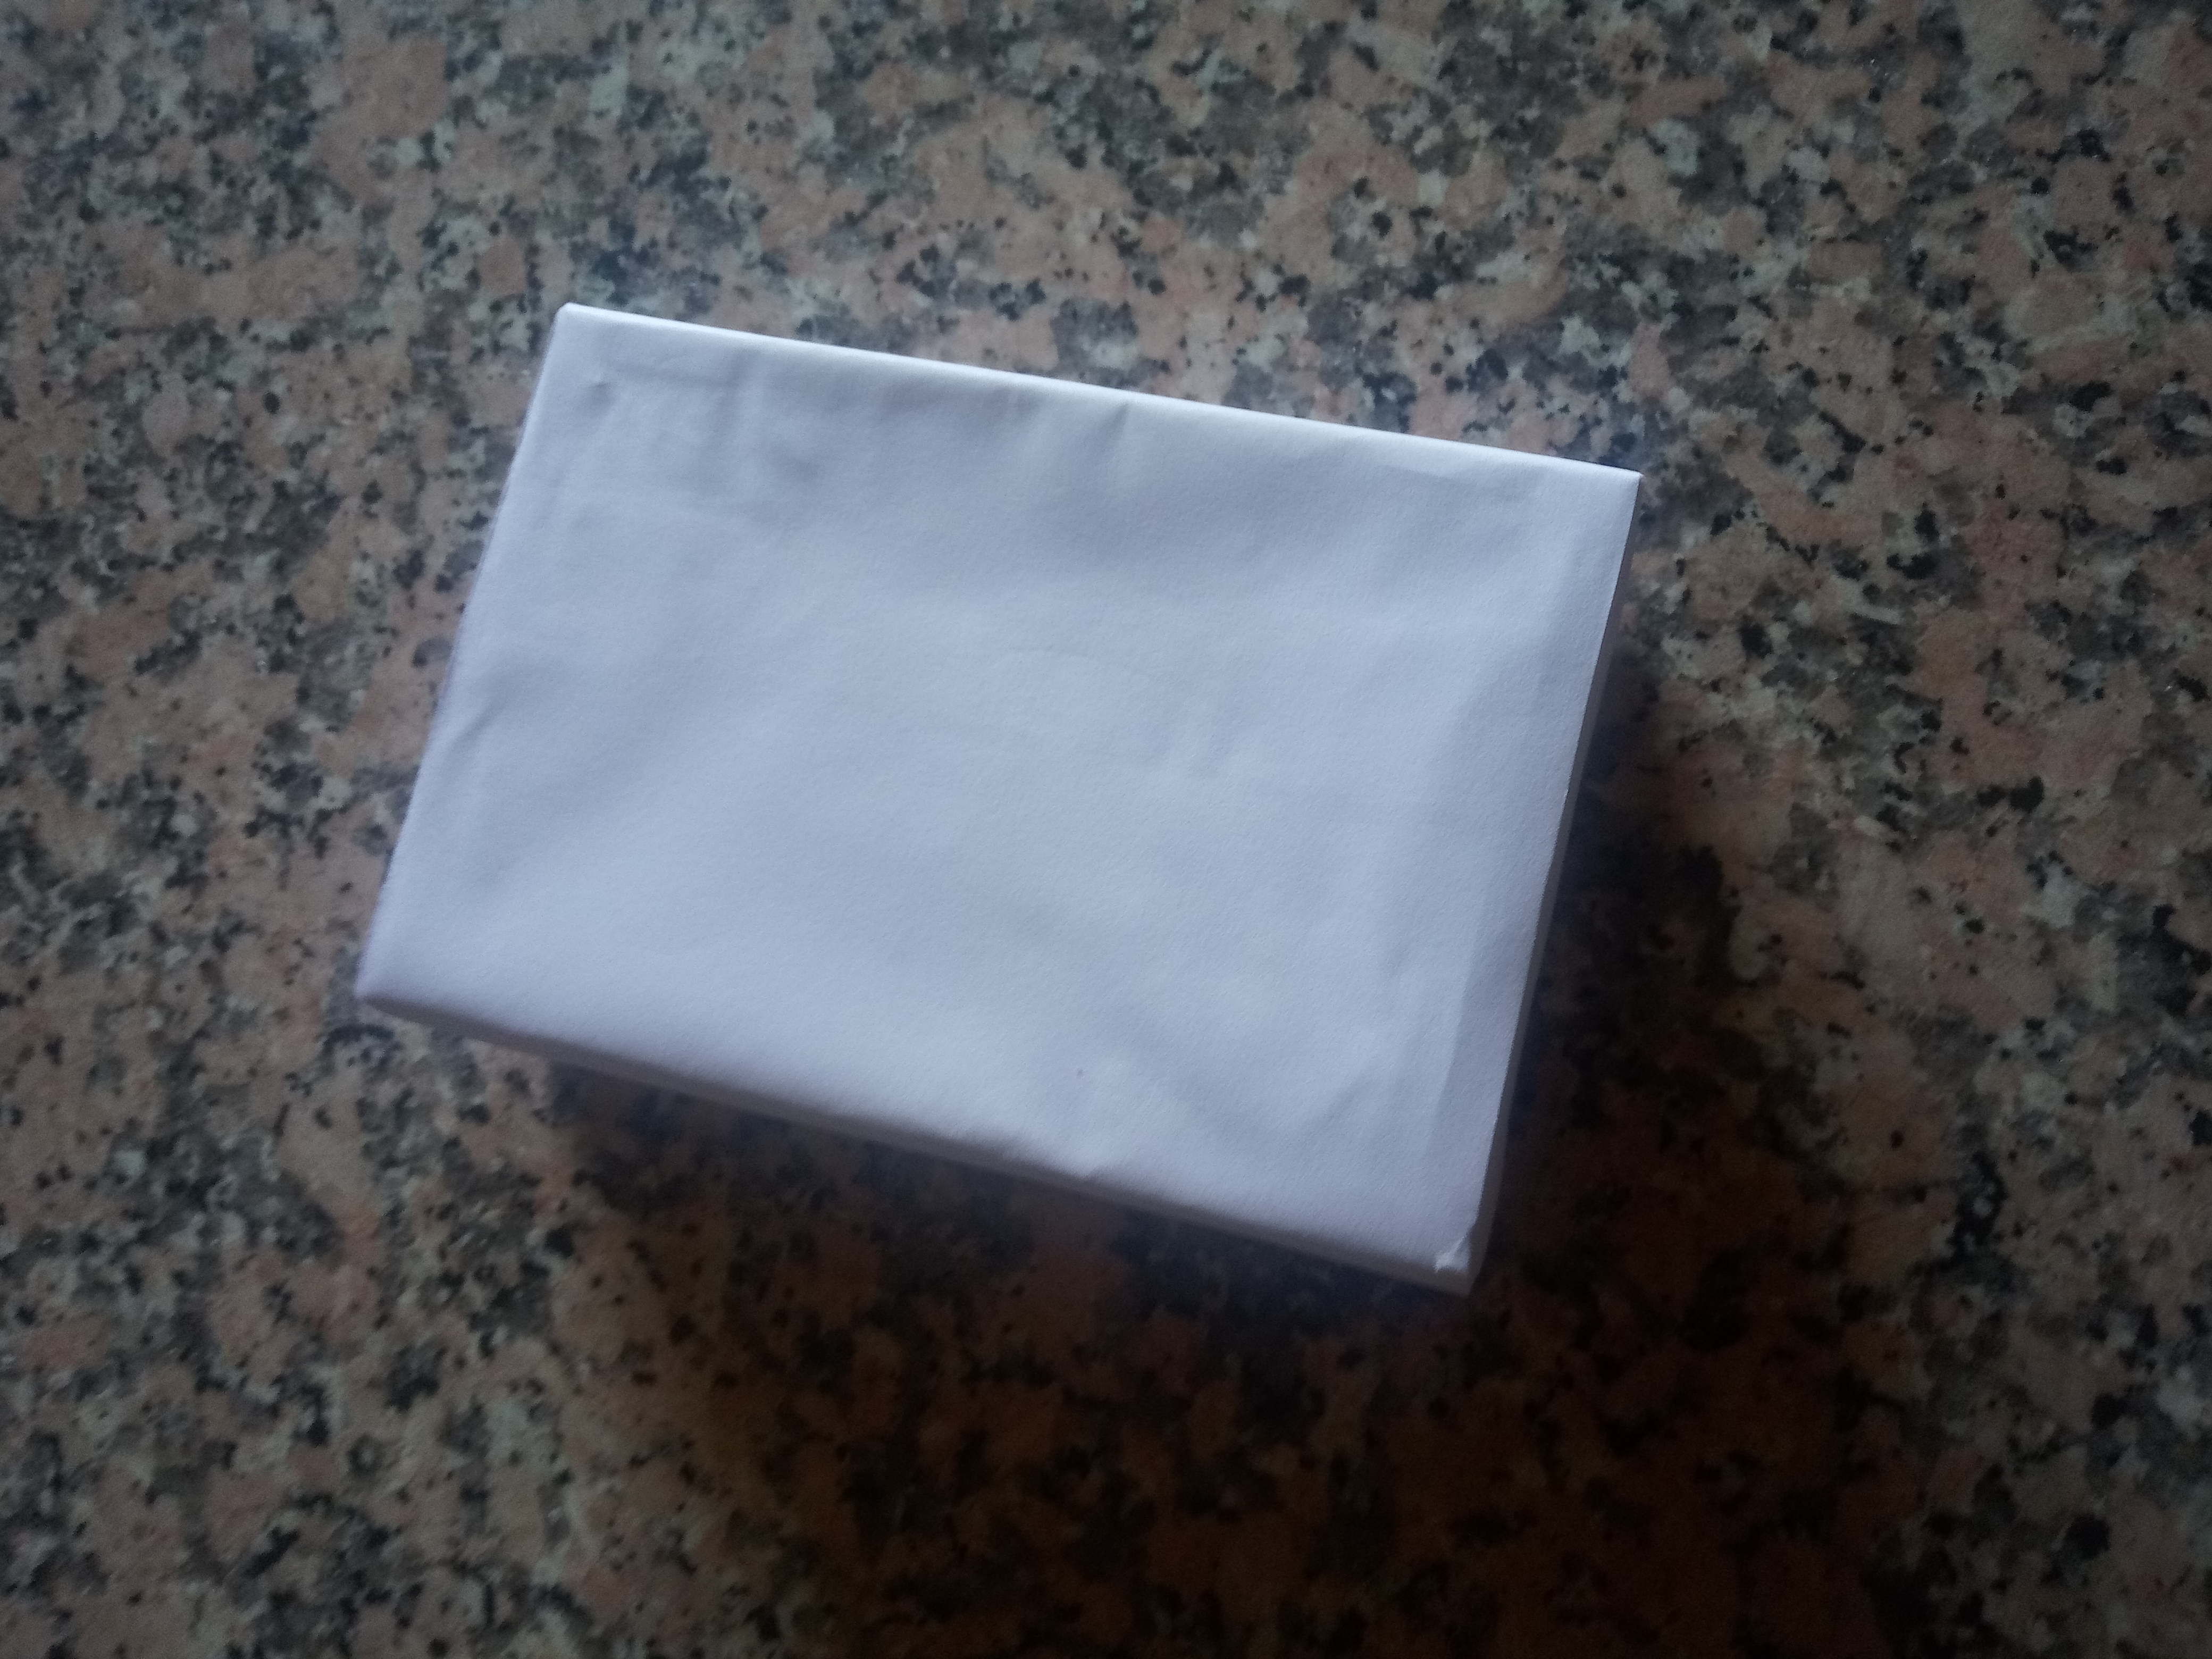white_box: (314, 253, 1696, 1356)
